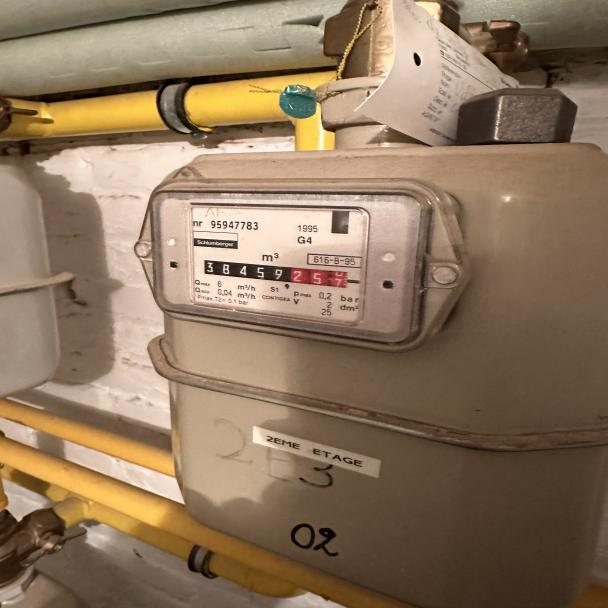2: (290, 262, 310, 290)
3: (202, 255, 220, 281)
4: (232, 259, 254, 281)
5: (308, 262, 333, 290), (252, 260, 274, 286)
7: (326, 266, 354, 294)
8: (220, 261, 234, 281)
9: (269, 260, 292, 284)
cm: (291, 260, 356, 292)
counter: (199, 253, 291, 291)
